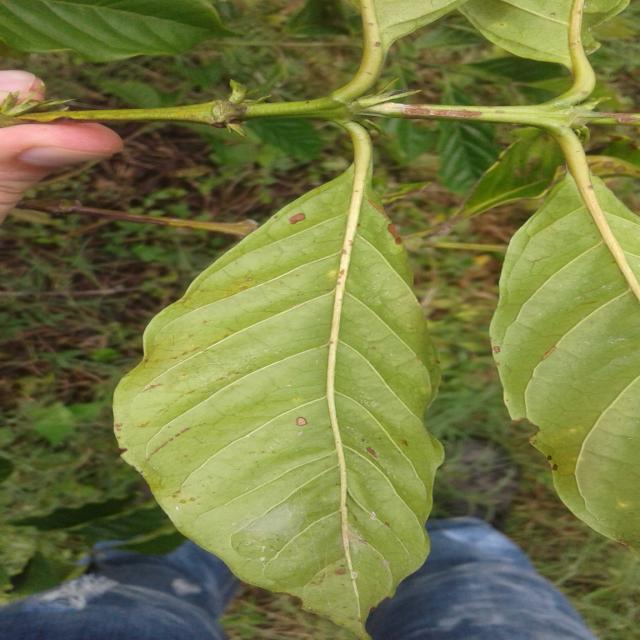Enfermedad-Roya: (116, 131, 444, 628)
